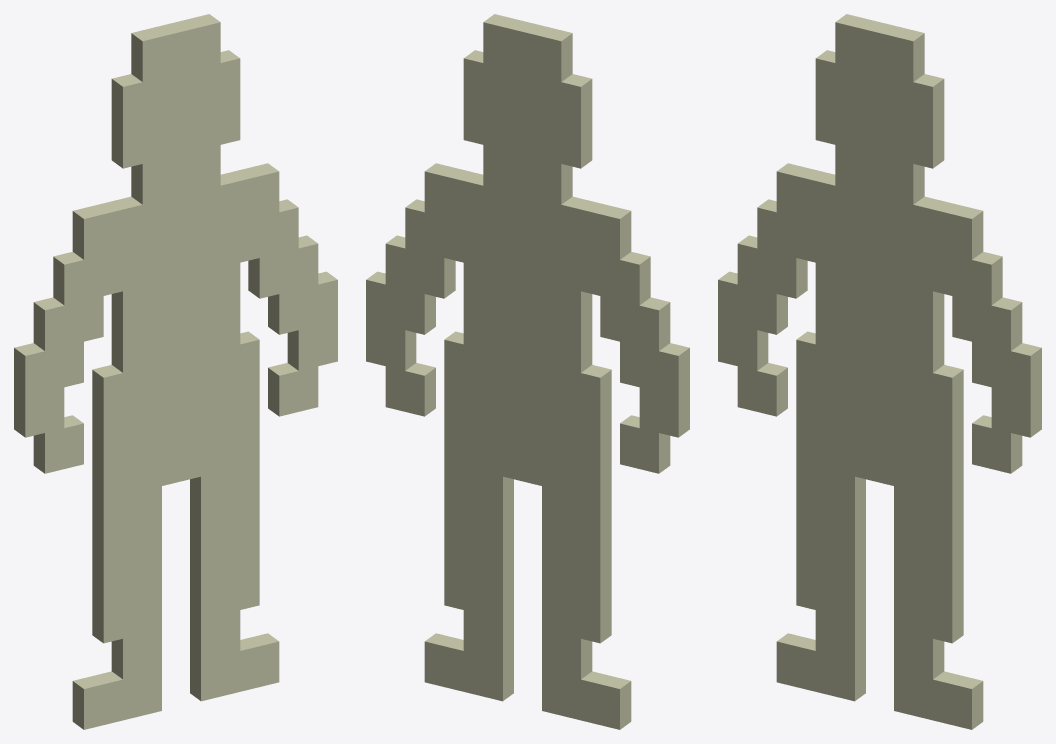
The model's file is Giant-Tan.vox.obj.
3 views of the same model, side by side, from view 1: azimuth 30°, elevation 25°; view 2: azimuth 150°, elevation 25°; view 3: azimuth 330°, elevation 25° (orthographic).
Bounding box in the file's own units: 1.6 × 3.3 × 0.1.
1 material, 1 textured.
